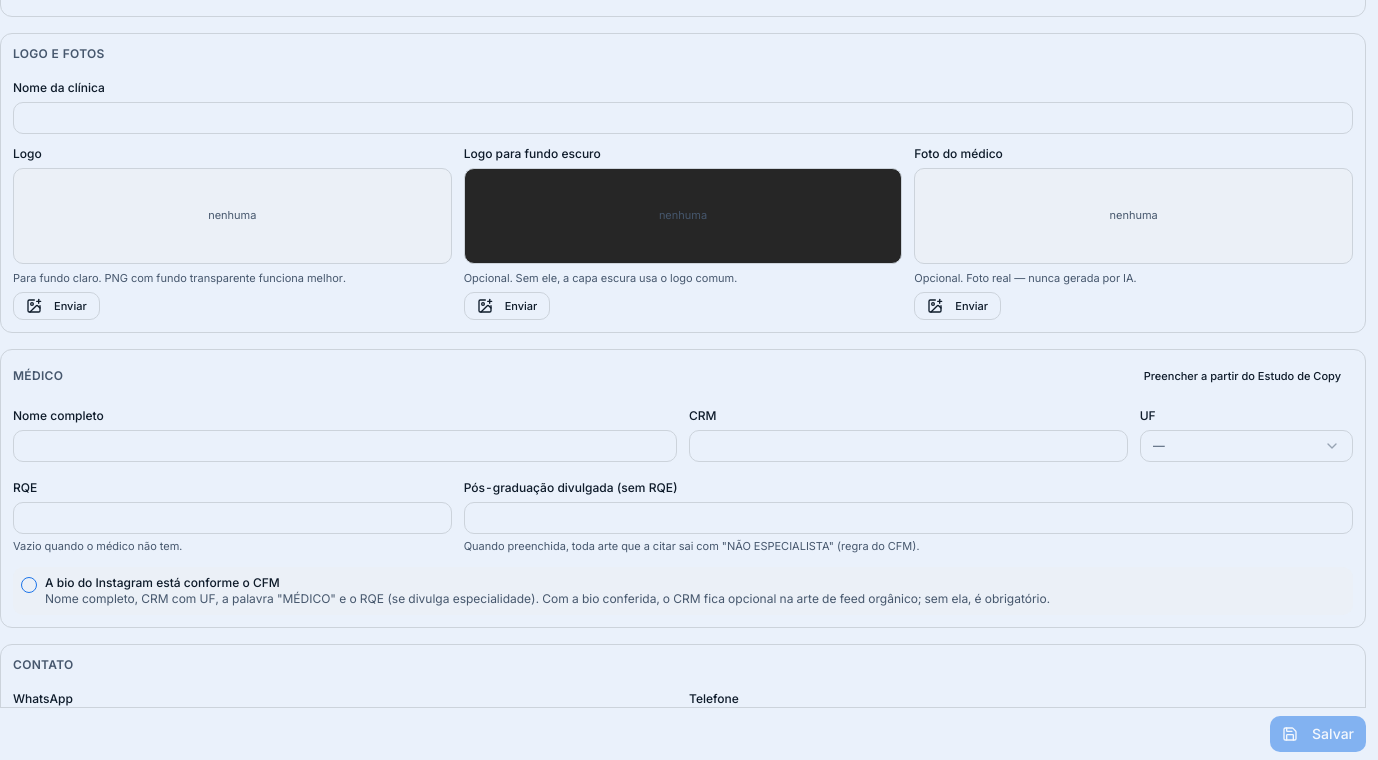
Test: BrandKitTab › preenche o médico a partir do Estudo de Copy, separando CRM e UF
(page scrolled)
Click the button "Preencher a partir do Estudo de Copy".
click(1242, 376)  # box [1132,362,1353,390]
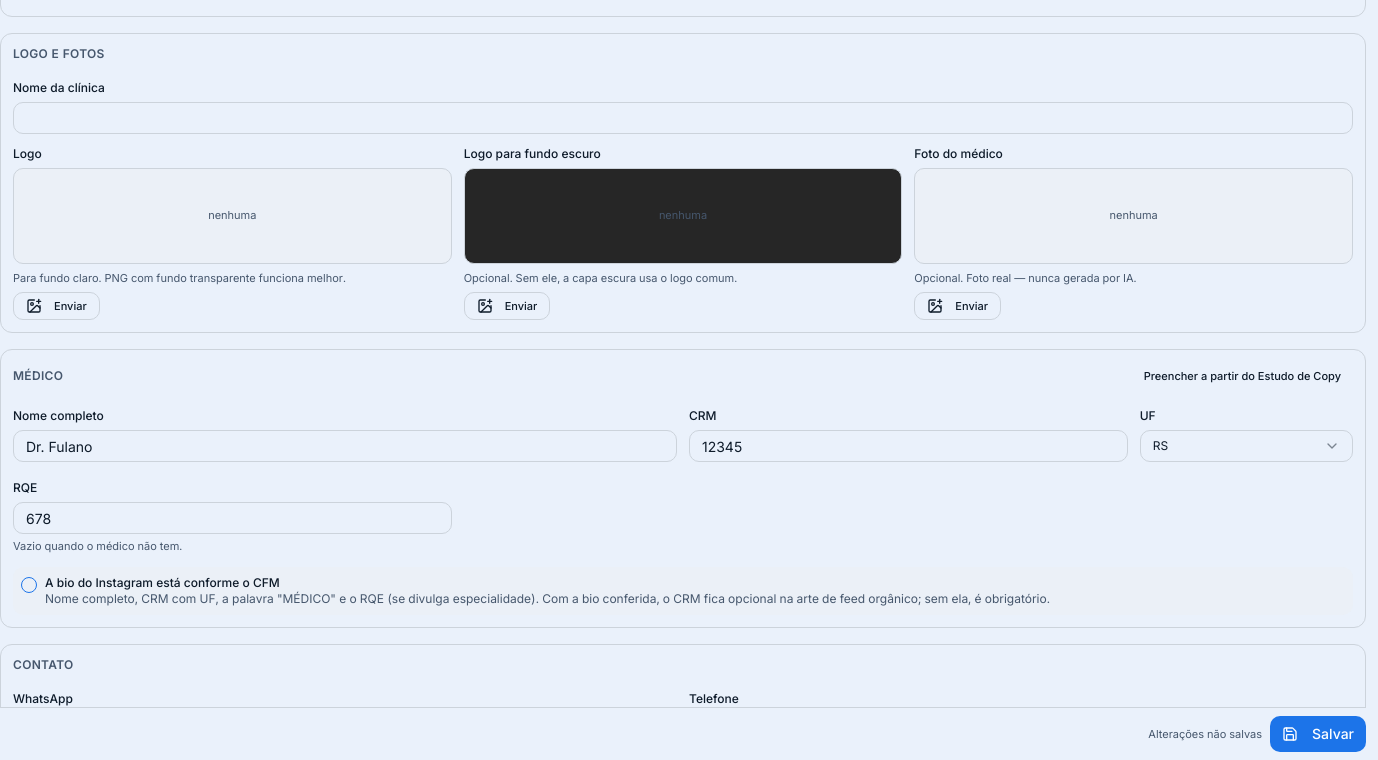
Now the field labelled "Nome completo" holds "Dr. Fulano", box [13,430,677,462]
Now the field labelled "CRM" holds "12345", box [689,430,1128,462]
Now the field labelled "RQE" holds "678", box [13,502,452,534]
